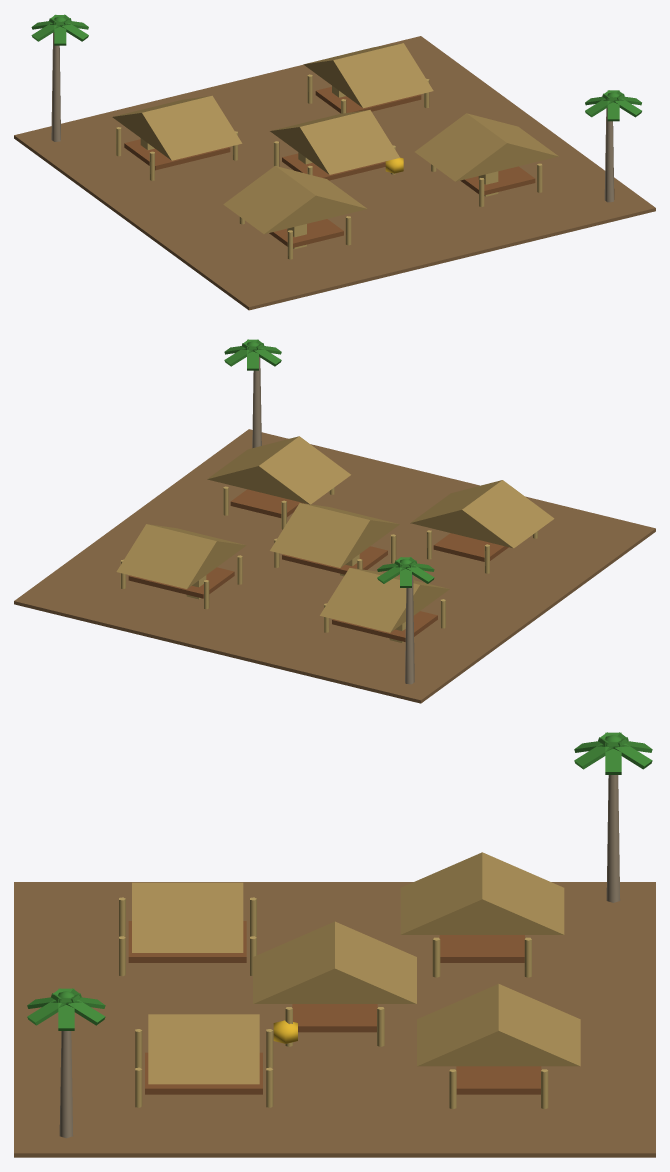
The model's file is building_pasar.glb.
3 views of the same model, one above another, from view 1: azimuth 30°, elevation 25°; view 2: azimuth 150°, elevation 25°; view 3: azimuth 270°, elevation 25° (orthographic). The views are drawn at different scales.
Parts seen in each view (by area): view 1: building_pasar; view 2: building_pasar; view 3: building_pasar.
Boxes of the visible parts, x1,y1,x2,y2 form: building_pasar: [14, 14, 655, 310]; building_pasar: [14, 339, 655, 703]; building_pasar: [14, 732, 655, 1157].
Size of the model in its own units: 1.97 by 0.58 by 1.96.
